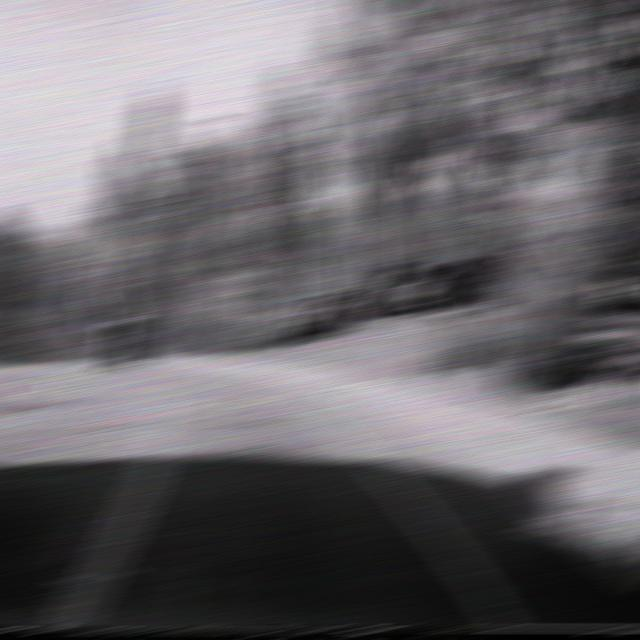pedestrianCrossing: (293, 245, 333, 291)
